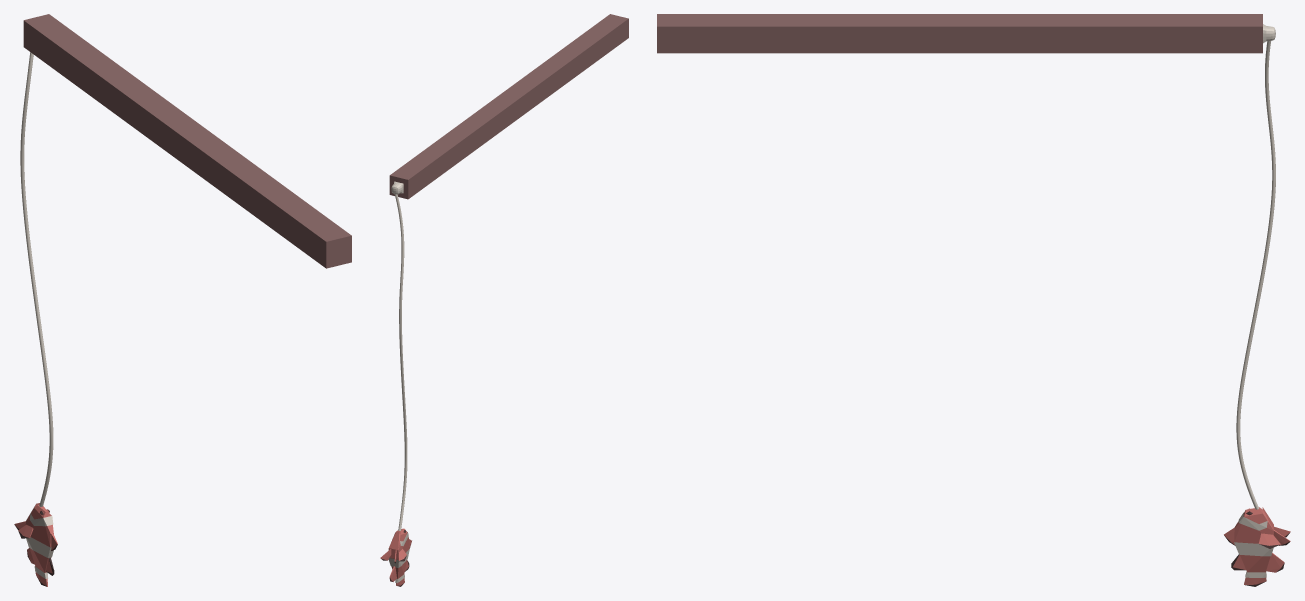
Rendered from stick.fbx.
The picture shows the model from 3 angles, left to right: view 1: azimuth 30°, elevation 25°; view 2: azimuth 150°, elevation 25°; view 3: azimuth 270°, elevation 25°; orthographic projection. The views are drawn at different scales.
Visible parts, largest first — view 1: stick, libe, Fish; view 2: stick, libe, Fish; view 3: stick, Fish, libe.
Part boxes in pixels (x1=…): stick: x1=23, y1=14, x2=351, y2=268; libe: x1=20, y1=52, x2=53, y2=506; Fish: x1=14, y1=503, x2=57, y2=586; stick: x1=389, y1=14, x2=628, y2=199; libe: x1=394, y1=194, x2=407, y2=530; Fish: x1=380, y1=528, x2=411, y2=586; stick: x1=657, y1=14, x2=1275, y2=53; Fish: x1=1224, y1=507, x2=1290, y2=586; libe: x1=1236, y1=41, x2=1275, y2=509.
Bounding box in the file's own units: 16.81 × 325 × 330.
